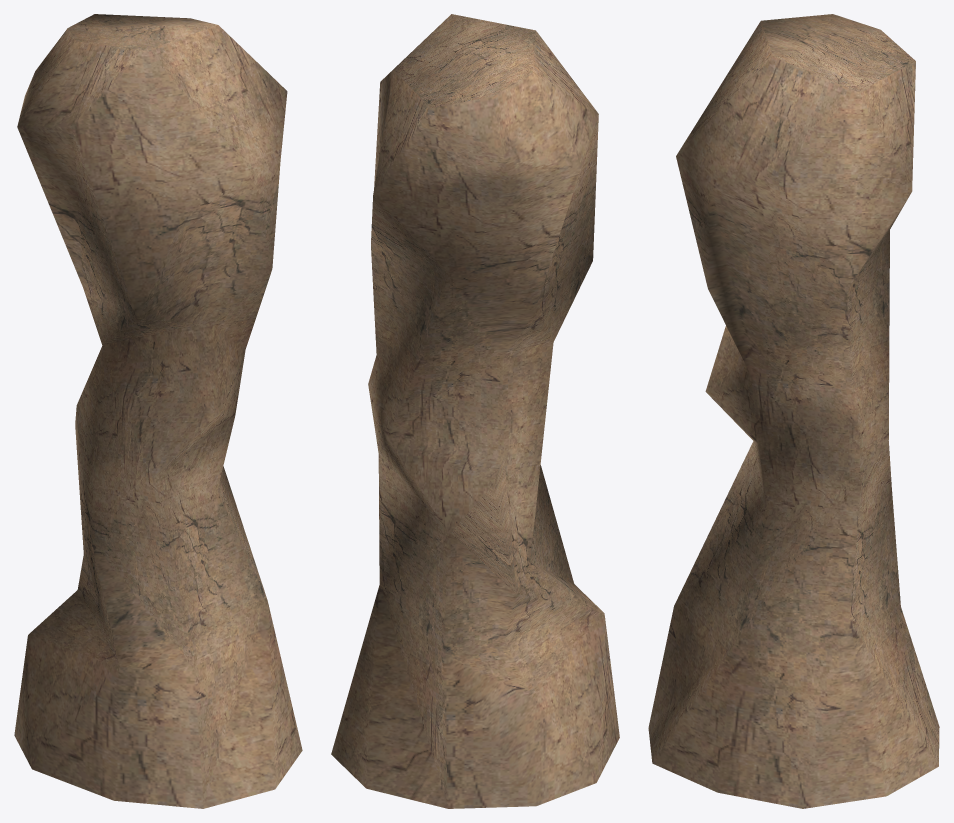
The model's file is rock_tatt_spire_smooth_l2.fbx.
The picture shows the model from 3 angles, left to right: view 1: azimuth 30°, elevation 25°; view 2: azimuth 150°, elevation 25°; view 3: azimuth 270°, elevation 25°; orthographic projection.
Parts seen in each view (by area): view 1: mesh_node; view 2: mesh_node; view 3: mesh_node.
Boxes of the visible parts, <box> form: mesh_node: <box>14,14,302,808</box>; mesh_node: <box>331,14,619,808</box>; mesh_node: <box>648,14,939,808</box>.
Bounding box in the file's own units: 25.02 × 67.07 × 24.95.
1 material, 1 textured.
